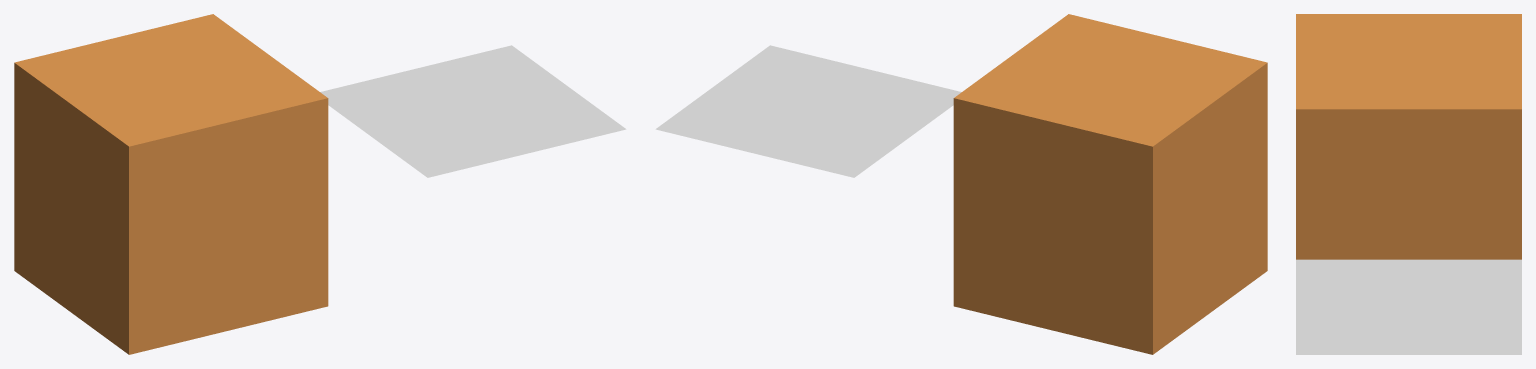
Rendered from unused_textures.out_img.glb.
3 renders of one model, left to right at view 1: azimuth 30°, elevation 25°; view 2: azimuth 150°, elevation 25°; view 3: azimuth 270°, elevation 25°, orthographic.
Parts seen in each view (by area): view 1: Cube, Plane; view 2: Cube, Plane; view 3: Cube, Plane.
Boxes of the visible parts, x1,y1,x2,y2 form: Cube: (14,14,328,354); Plane: (320,45,626,177); Cube: (953,14,1267,354); Plane: (655,45,961,177); Cube: (1296,14,1521,259); Plane: (1296,259,1521,354).
Bounding box in the file's own units: 5 × 2 × 2.
Materials: 2 (1 with a texture image).
